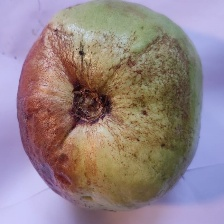guava: (24, 12, 224, 180)
